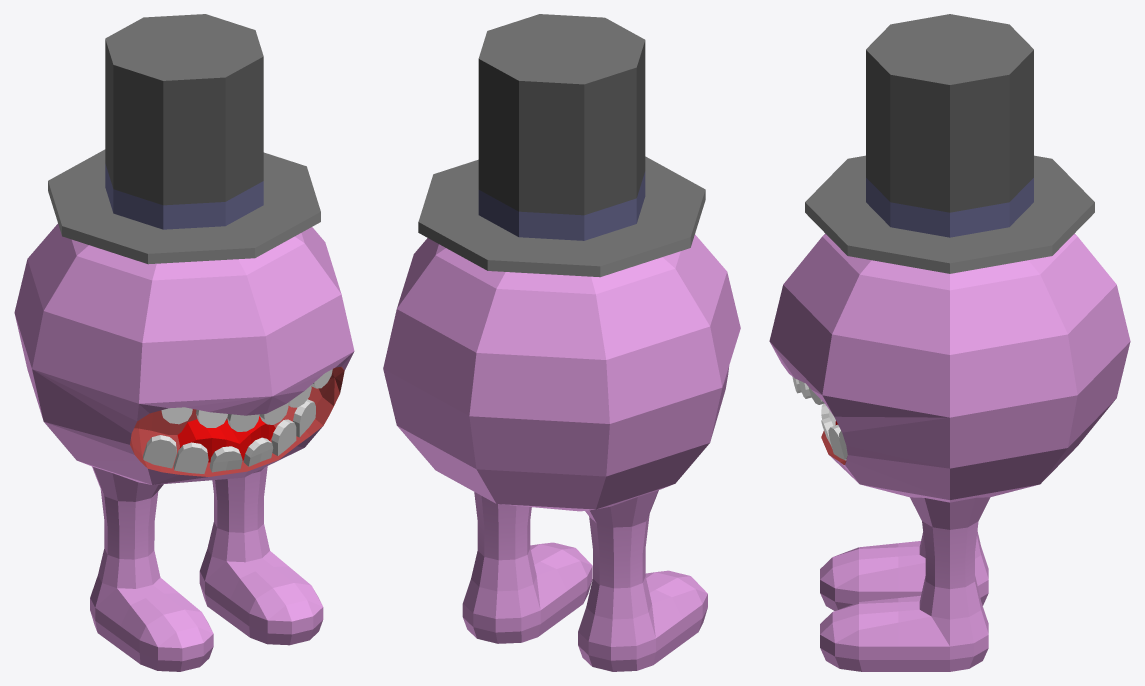
File: shopkeep.fbx
3 renders of one model, left to right at view 1: azimuth 30°, elevation 25°; view 2: azimuth 150°, elevation 25°; view 3: azimuth 270°, elevation 25°, orthographic. The views are drawn at different scales.
Parts seen in each view (by area): view 1: Fig, pCylinder1; view 2: Fig, pCylinder1; view 3: Fig, pCylinder1.
Part boxes in pixels (x1,y1,x2,y2): Fig: (14, 224, 354, 671); pCylinder1: (48, 14, 320, 264); Fig: (383, 234, 740, 671); pCylinder1: (418, 14, 705, 277); Fig: (769, 233, 1130, 671); pCylinder1: (805, 14, 1094, 273).
Bounding box in the file's own units: 7.16 × 12.66 × 7.16.
